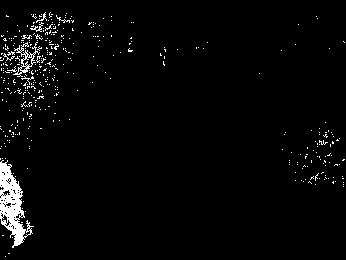person: (1, 155, 31, 248)
